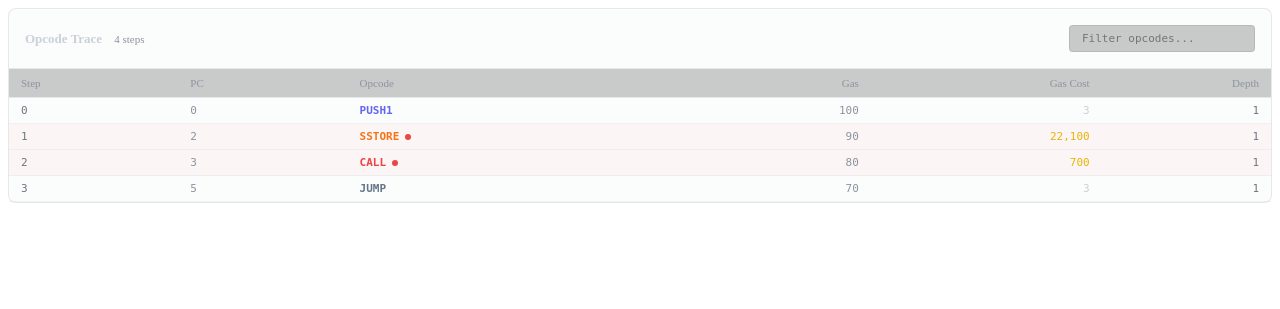
Test: OpcodeViewer › collapses a previously expanded row on second click
The width and height of the screenshot is (1280, 309).
Step 1. Click the text "CALL" → click(373, 162), box [360,156,386,169]
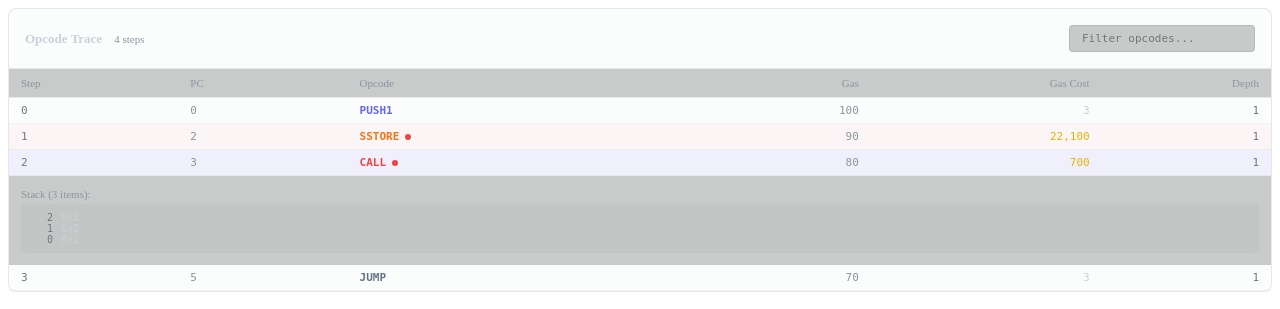
Step 2. Click the text "CALL" → click(373, 162), box [360,156,386,169]
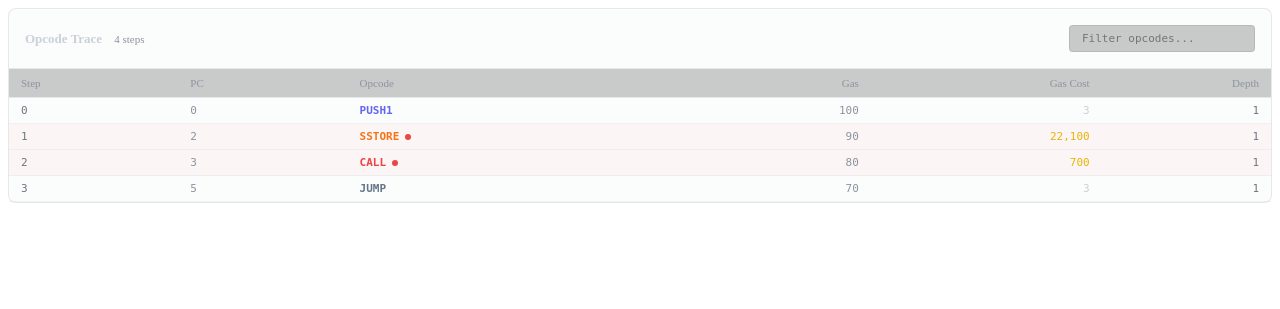
Check: the text "Stack (3 items)" is gone
